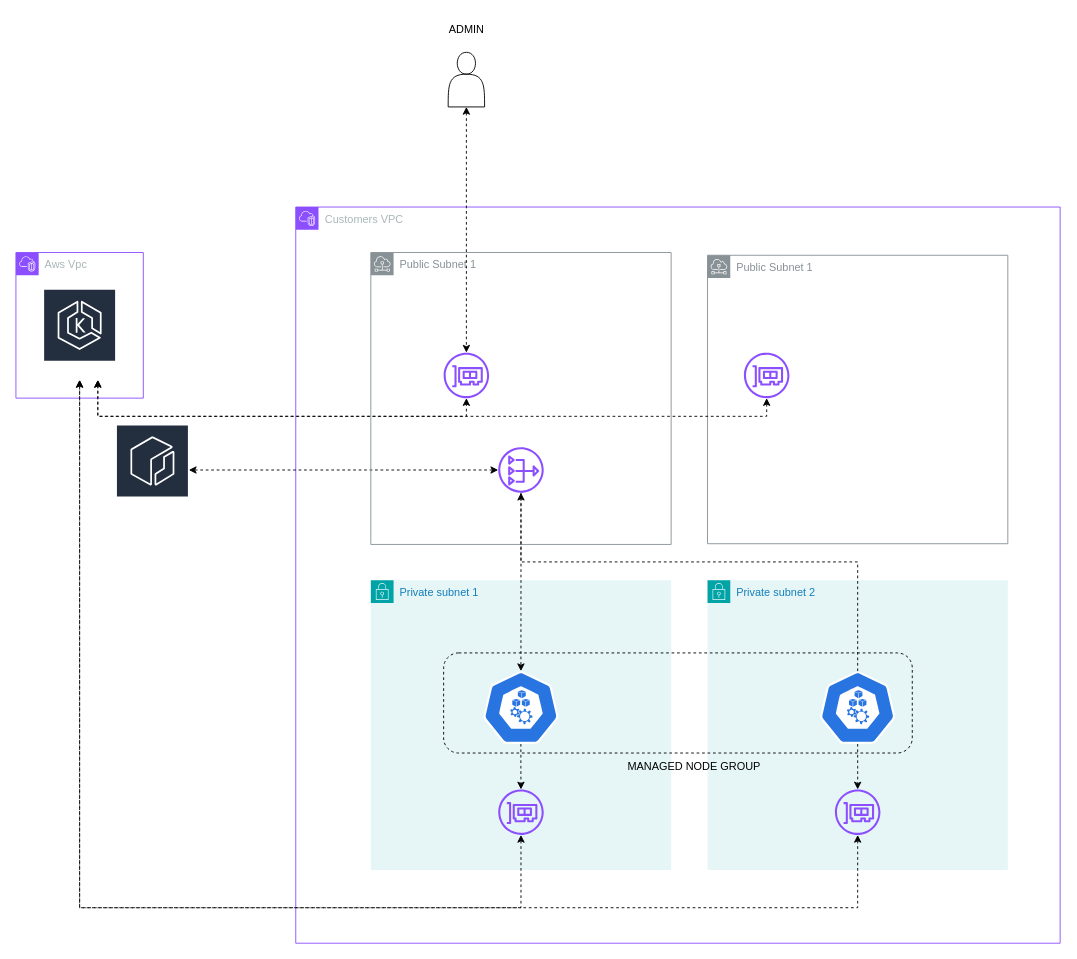
The diagram is 1077 pixels wide and 959 high, and some of its shapes have lost their labels. The centre of each missing label's shape, as x and y in pixels:
"Amazon ECR" goes at (x=152, y=470).
"Amazon EKS" goes at (x=79, y=334).
